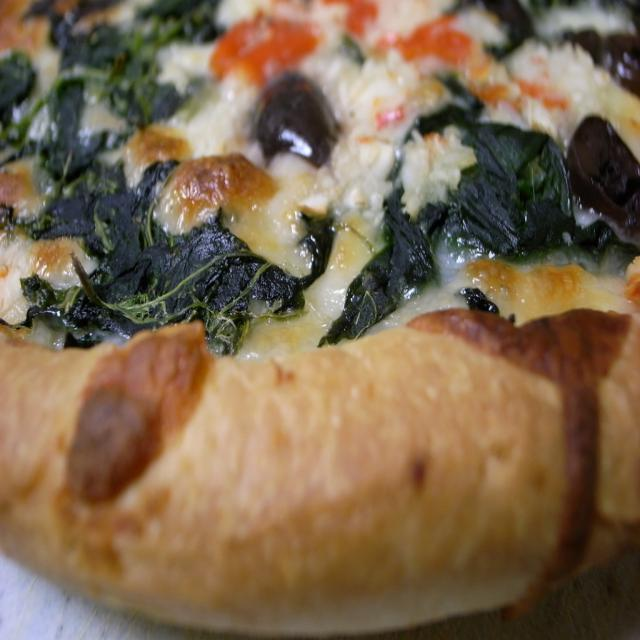Pizza: (0, 40, 640, 640)
